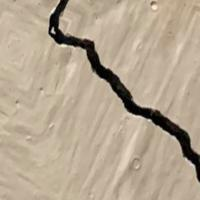crack: (46, 0, 199, 177)
